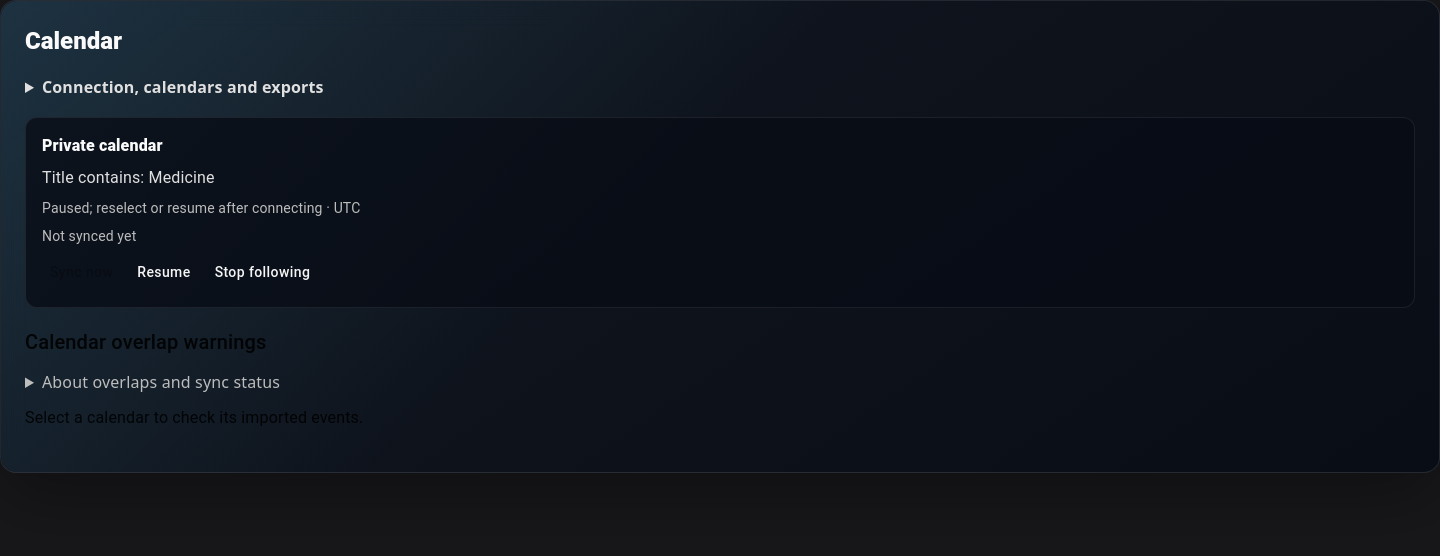
calendar dashboard selection › keeps selection controls usable and surfaces a provider error
Click the button "Stop following".
click(262, 272)  # box [207, 254, 318, 290]
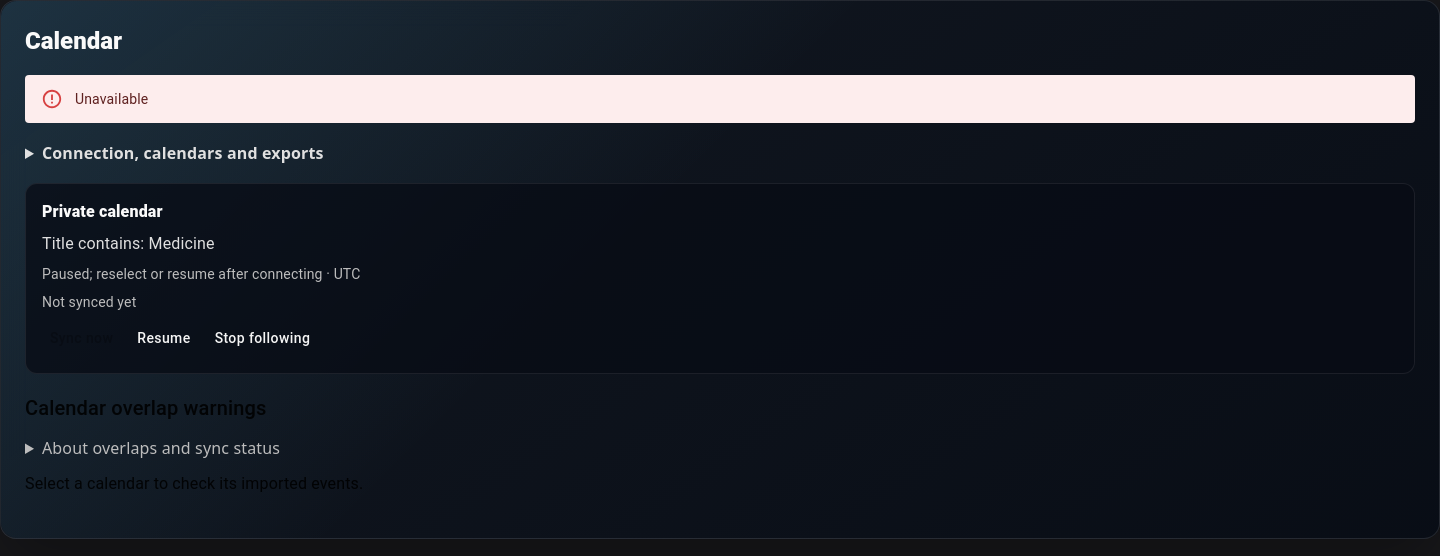
Expected: the button "Resume" is enabled, [129, 320, 199, 357]
Expected: the text "Unavailable" is shown, [75, 91, 148, 107]
